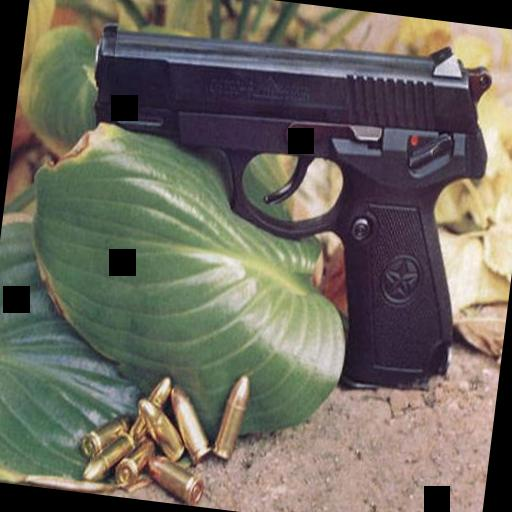Handgun: (57, 2, 500, 402)
